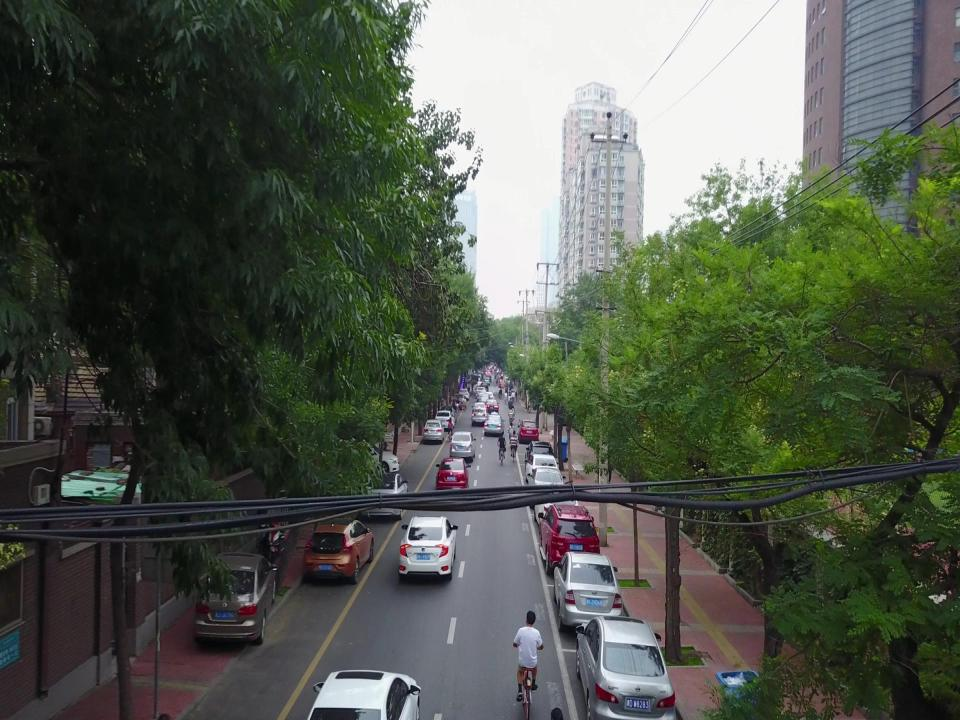car: (575, 615, 675, 720), (194, 552, 276, 645), (306, 668, 420, 720), (553, 550, 622, 632), (303, 517, 373, 584), (537, 504, 600, 574), (398, 515, 458, 581), (337, 441, 401, 474), (366, 472, 408, 521), (533, 486, 579, 527), (527, 466, 567, 509), (435, 457, 471, 493), (524, 454, 559, 487), (449, 431, 477, 462), (526, 441, 554, 467), (517, 419, 539, 445), (483, 411, 505, 437), (423, 419, 445, 444), (434, 410, 456, 431), (471, 407, 489, 426), (439, 406, 457, 423)
